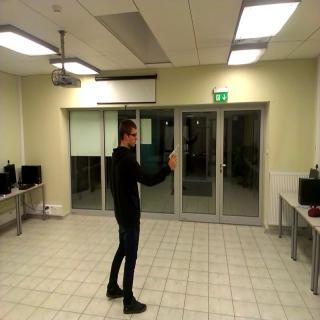gun: (167, 140, 180, 171)
